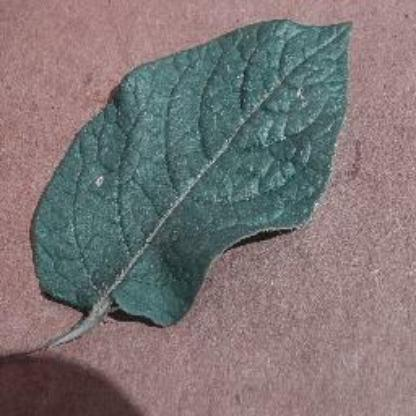Healthy-plant: (27, 9, 361, 329)
